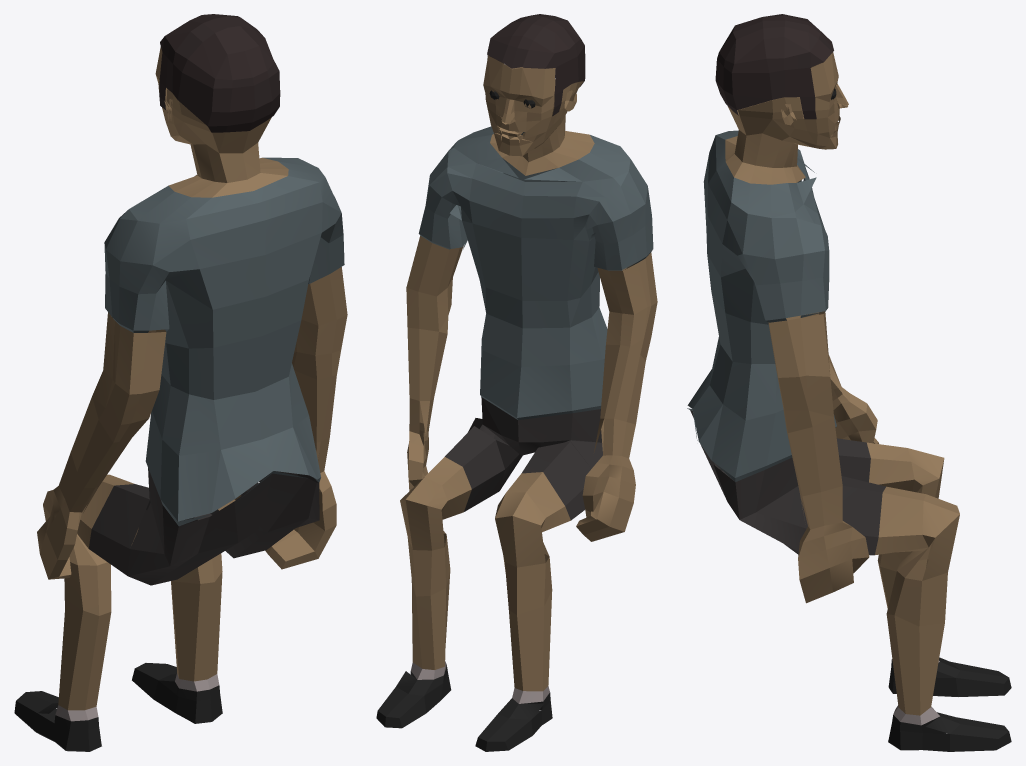
The model's file is person_3_sit.fbx.
The picture shows the model from 3 angles, left to right: view 1: azimuth 30°, elevation 25°; view 2: azimuth 150°, elevation 25°; view 3: azimuth 270°, elevation 25°; orthographic projection. The views are drawn at different scales.
Visible parts, largest first — view 1: BaseHuman; view 2: BaseHuman; view 3: BaseHuman.
Boxes of the visible parts, bbox=[...] form: BaseHuman: bbox=[14, 14, 347, 751]; BaseHuman: bbox=[376, 14, 657, 751]; BaseHuman: bbox=[687, 14, 1011, 751].
Bounding box in the file's own units: 0.3725 × 1 × 0.4224.
